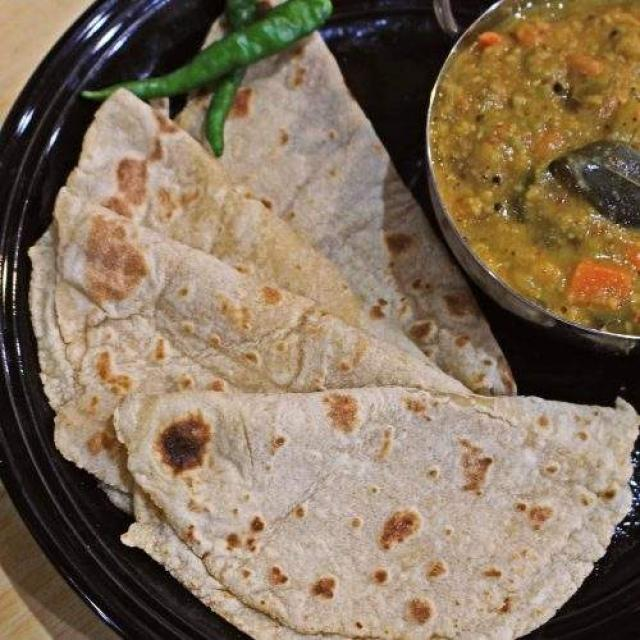RICE BHAKRI: (29, 30, 639, 639)
